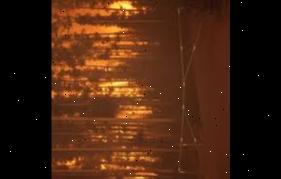fire: (58, 0, 160, 179)
